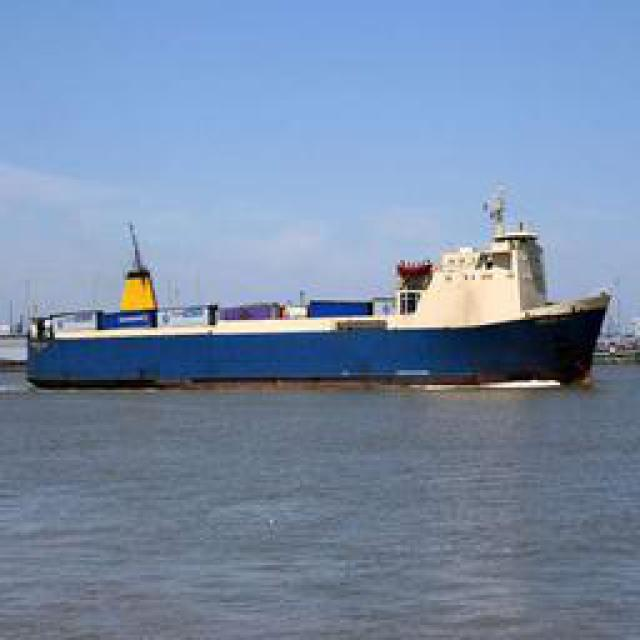Ship: (18, 203, 633, 391)
